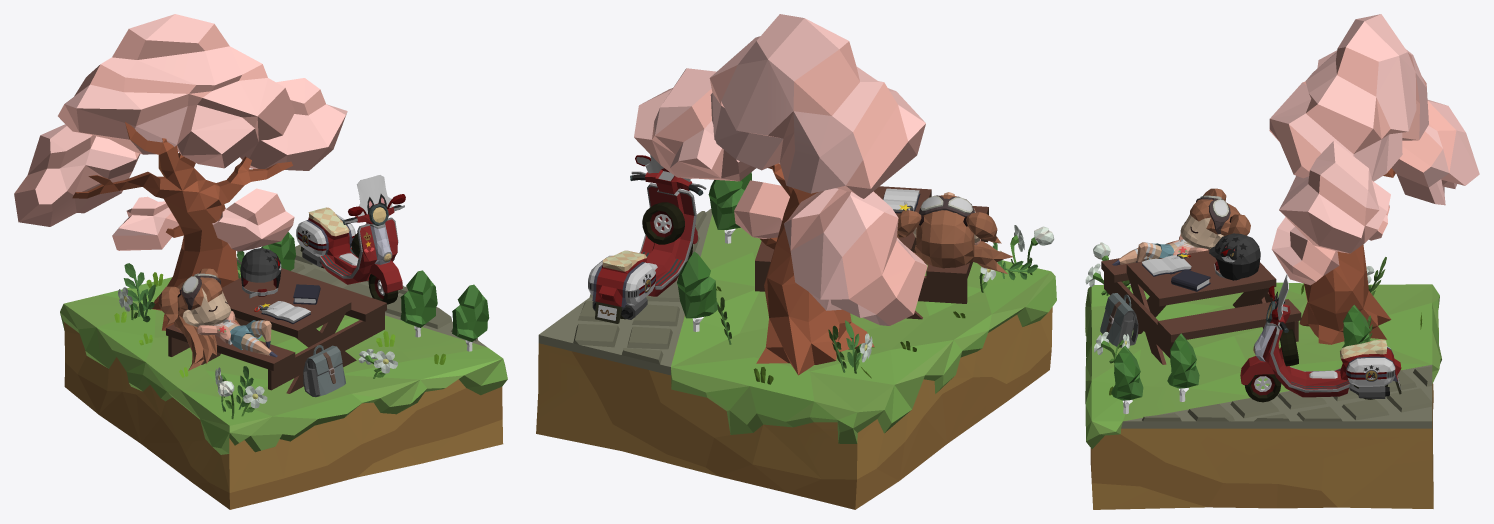
File: 0064_karin_breaktime.fbx
3 views of the same model, side by side, from view 1: azimuth 30°, elevation 25°; view 2: azimuth 150°, elevation 25°; view 3: azimuth 270°, elevation 25° (orthographic). The views are drawn at different scales.
Visible parts, largest first — view 1: Plate, Leaves03, Table, Trunk, Leaves04, Leaves05, Leaves_Small (×3), Karin_Head001, Leaves01, Scooter_Front, Leaves02, Scooter_Rear01 (+8 smaller); view 2: Plate, Leaves03, Leaves04, Trunk, Leaves05, Karin_Head001, Scooter_Rear01, Leaves_Small (×2), Table, Scooter_Front, Leaves01, Wheel (+2 smaller); view 3: Plate, Leaves03, Table, Leaves05, Leaves04, Trunk, Leaves_Small (×3), Scooter_Front, Leaves01, Scooter_Rear01, Karin_Head001, Helmet (+8 smaller).
Boxes of the visible parts, x1,y1,x2,y2 form: Plate: (60,244,507,509); Leaves03: (58,14,294,168); Table: (166,268,386,393); Trunk: (72,122,292,330); Leaves04: (14,124,140,226); Leaves05: (240,78,347,170); Leaves_Small (×3): (261,232,489,341); Karin_Head001: (158,268,239,370); Leaves01: (212,188,294,251); Scooter_Front: (319,217,402,293); Leaves02: (112,196,178,250); Scooter_Rear01: (296,207,355,256); Plate: (536,209,1056,509); Leaves03: (709,14,925,198); Leaves04: (784,188,927,325); Trunk: (756,163,874,375); Leaves05: (634,68,755,181); Karin_Head001: (897,194,1012,273); Scooter_Rear01: (588,250,655,323); Leaves_Small (×2): (677,180,744,318); Table: (755,186,988,319); Scooter_Front: (639,183,697,296); Leaves01: (734,180,789,238); Wheel: (642,202,684,244); Plate: (1085,282,1441,509); Leaves03: (1269,14,1428,181); Table: (1101,250,1301,364); Leaves05: (1279,141,1390,253); Leaves04: (1392,100,1479,205); Trunk: (1299,168,1395,344); Leaves_Small (×3): (1111,305,1370,400); Scooter_Front: (1240,322,1349,397); Leaves01: (1271,217,1339,285); Scooter_Rear01: (1340,339,1401,394); Karin_Head001: (1165,188,1250,249); Helmet: (1209,233,1260,280).
Bounding box in the file's own units: 7.87 × 8.8 × 8.03.
